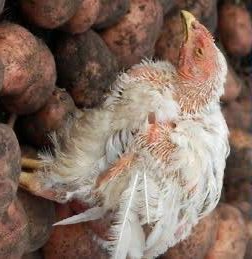Unhealthy: (13, 10, 228, 249)
